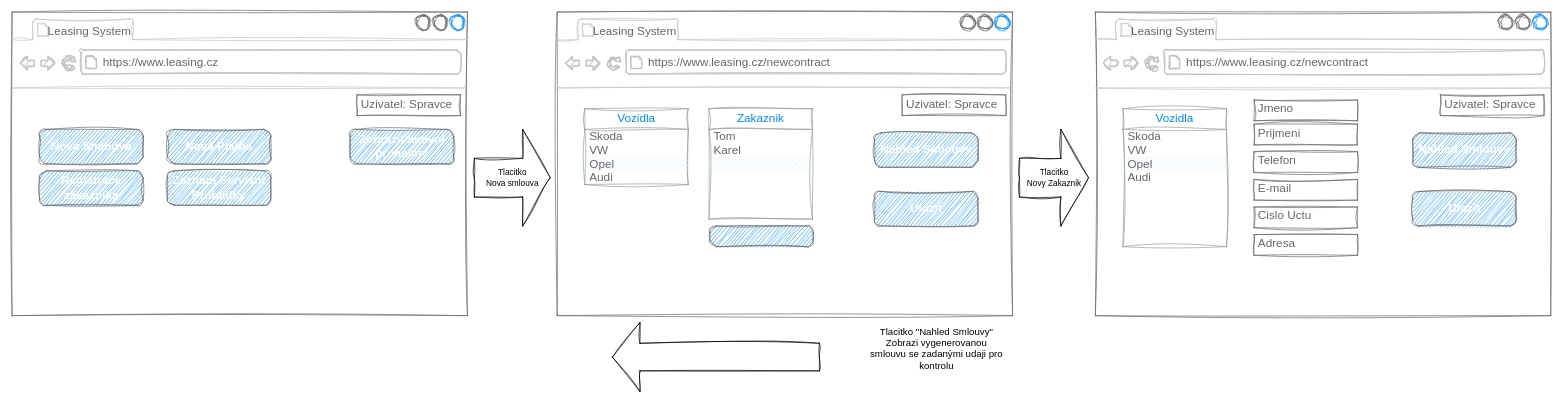
Image size: 1563x404. Some labels were removed from this diagram. Here are the shapes that lost their labels. From the top down, the centre of each, then its label:
(760,163): Jana
(761,236): Novy Zakaznik
(715,357): Tlačítko "Ulozit" uloží údaje a vrátí zpět na původní stránku
